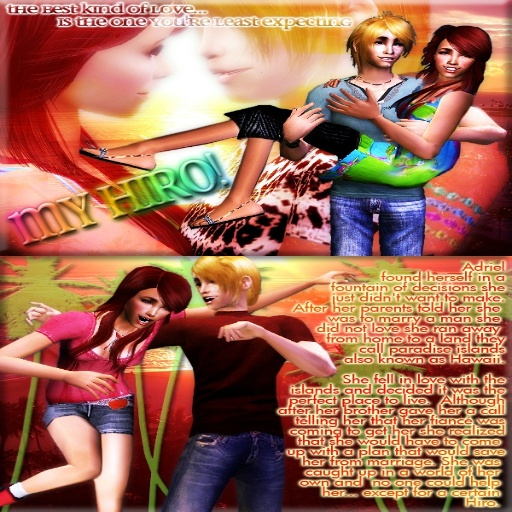hand: (282, 101, 331, 141), (325, 85, 381, 120), (62, 370, 121, 402), (213, 314, 261, 341), (384, 117, 430, 142), (23, 300, 59, 327), (313, 269, 356, 285)
